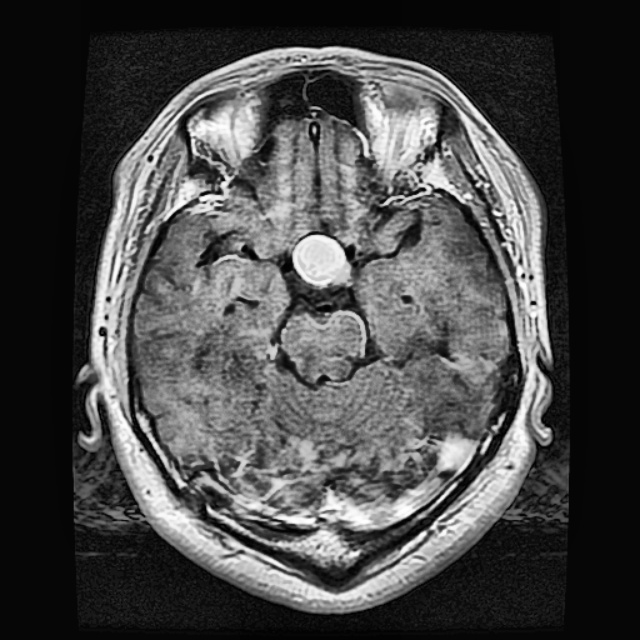Pituitary: (293, 235, 347, 285)
